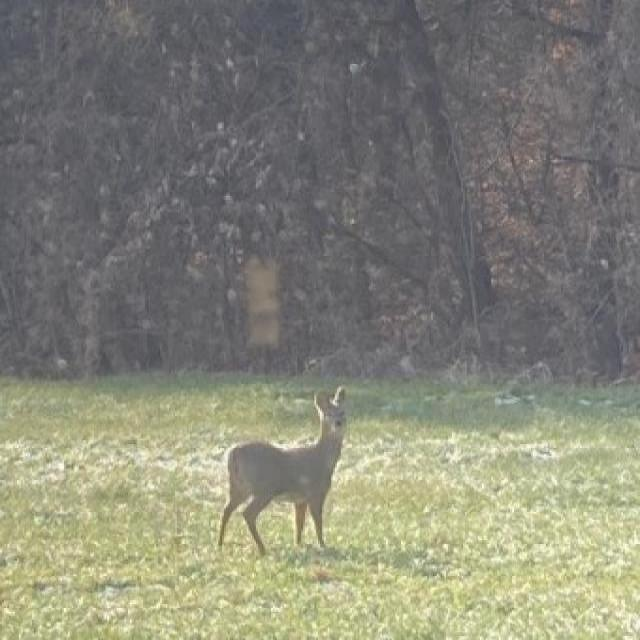deer: (198, 374, 370, 578)
